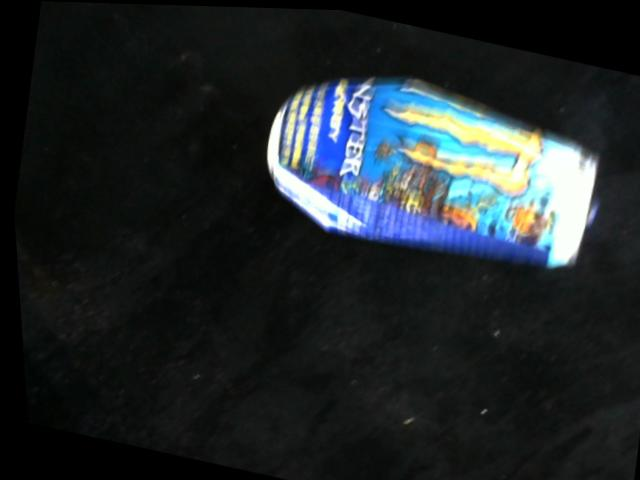can: (265, 67, 604, 265)
